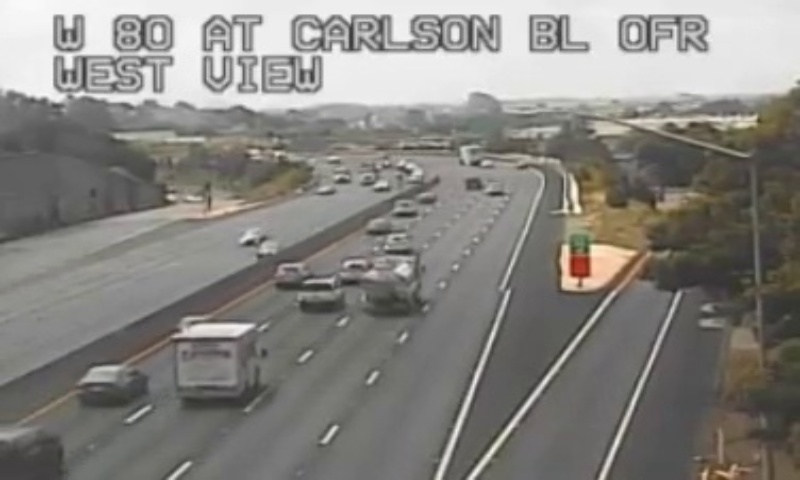car: (76, 364, 148, 404), (297, 277, 342, 306), (272, 261, 310, 285), (340, 258, 370, 283)
small-truck: (174, 323, 263, 400)
tank-truck: (363, 252, 423, 315)
